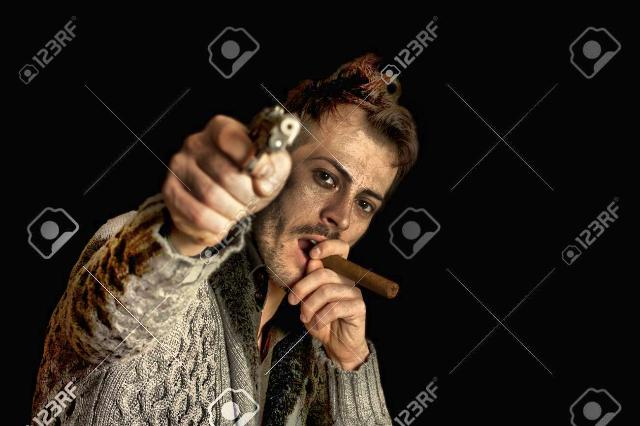pistol: (232, 102, 300, 176)
